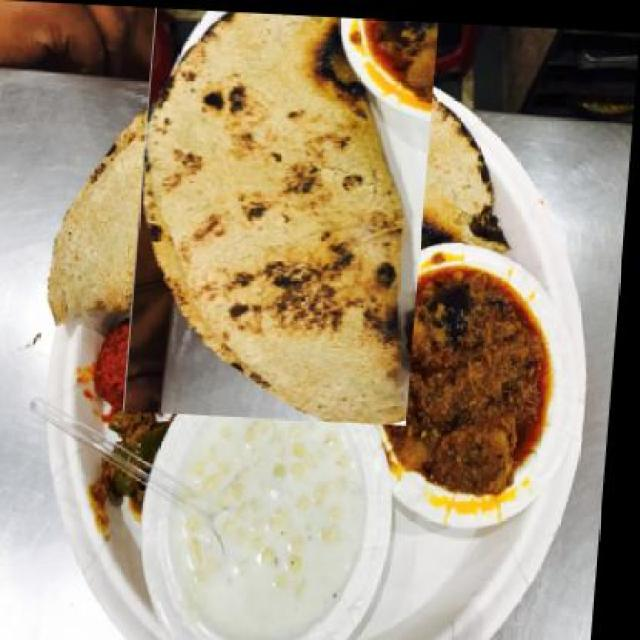chapati: (89, 4, 485, 382)
